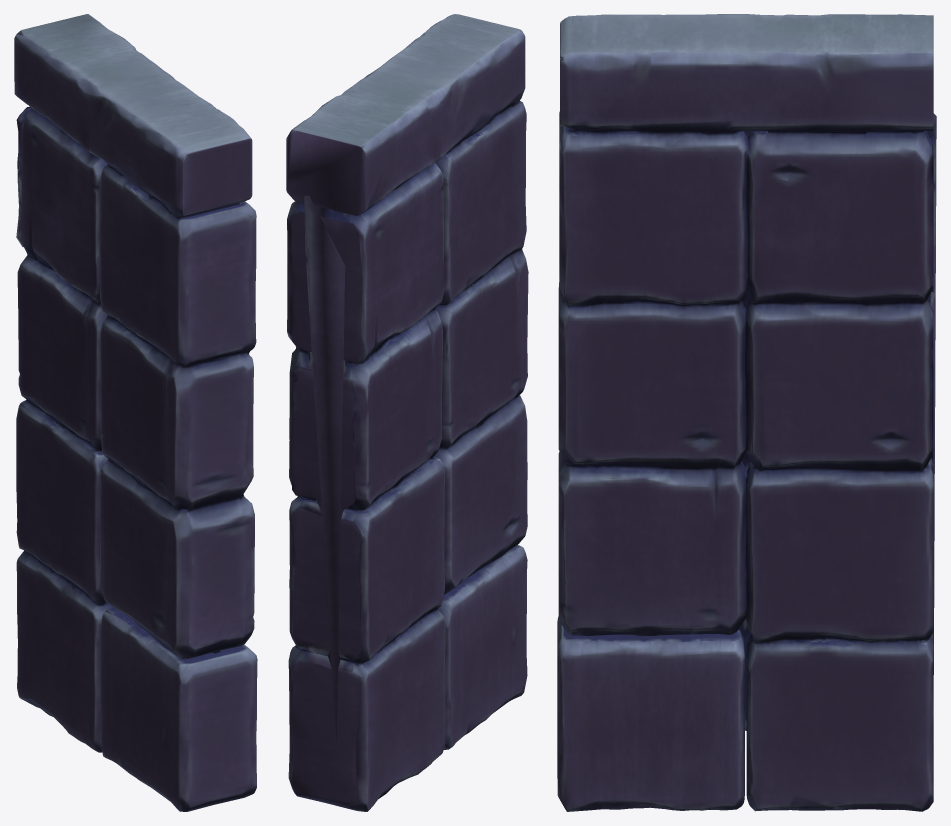
Rendered from wall.glb.
3 renders of one model, left to right at view 1: azimuth 30°, elevation 25°; view 2: azimuth 150°, elevation 25°; view 3: azimuth 270°, elevation 25°, orthographic. The views are drawn at different scales.
Parts seen in each view (by area): view 1: Wall_01; view 2: Wall_01; view 3: Wall_01.
Part boxes in pixels (<box>): Wall_01: <box>14,14,257,811</box>; Wall_01: <box>286,14,528,811</box>; Wall_01: <box>557,14,936,811</box>.
Bounding box in the file's own units: 0.0829 × 0.6376 × 0.2886.
Materials: 1 (1 with a texture image).
